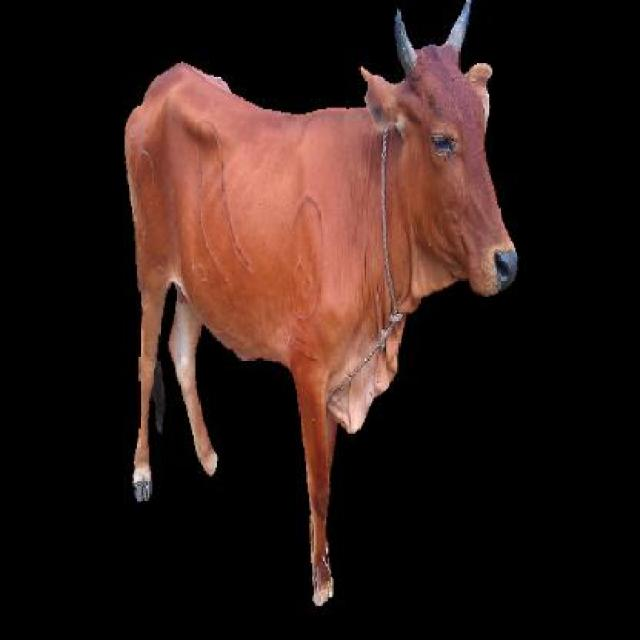Cow: (117, 0, 529, 614)
